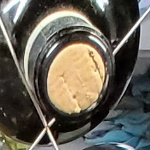bottle: (24, 25, 130, 134)
